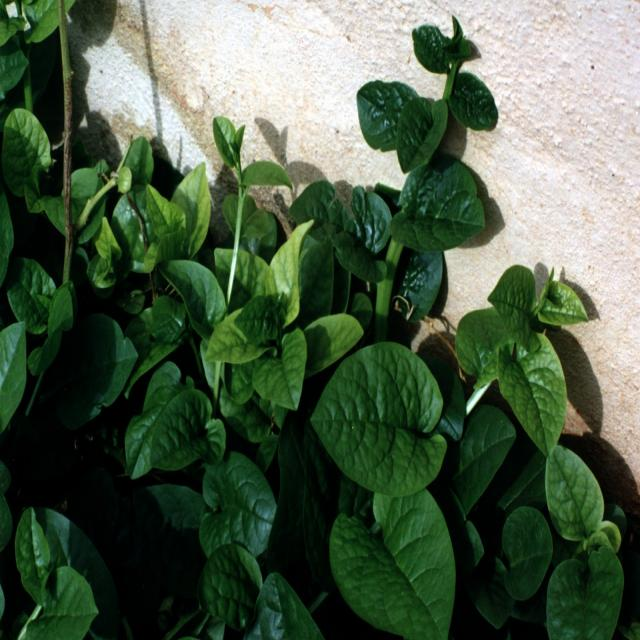Medicinal-Basale: (127, 11, 627, 640), (0, 9, 111, 640)
